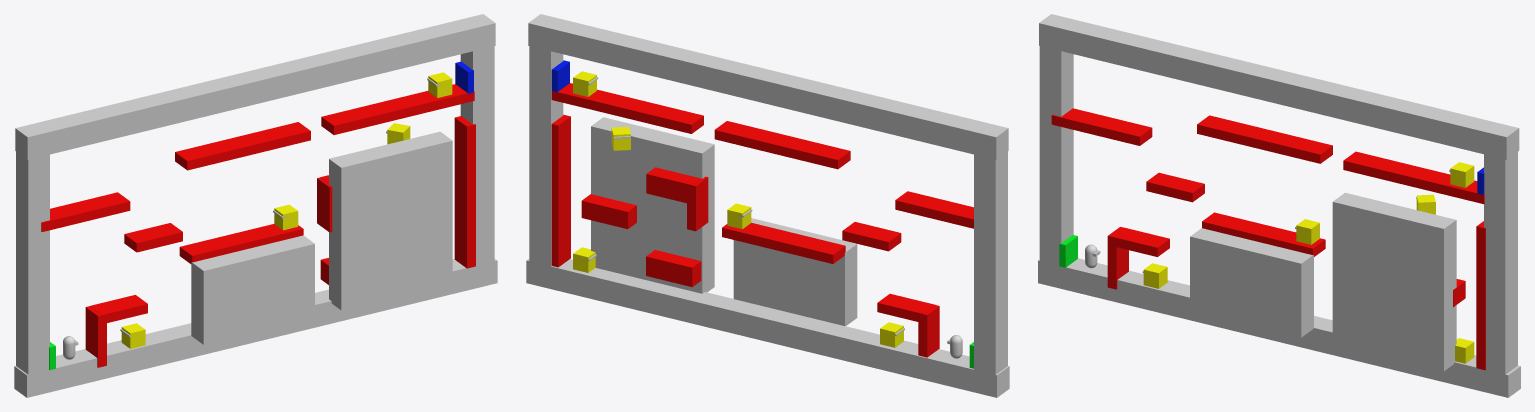
Rendered from Escena_2.fbx.
The picture shows the model from 3 angles, left to right: view 1: azimuth 30°, elevation 25°; view 2: azimuth 150°, elevation 25°; view 3: azimuth 330°, elevation 25°; orthographic projection.
Visible parts, largest first — view 1: Cube__1_, Cube__2_, Cube__5_, Cube_6, Cube__4_, Cube__3_, Inicio__6_, Inicio__4_, Inicio__9_, Inicio__11_, Inicio__13_, Inicio__12_ (+7 smaller); view 2: Cube__2_, Cube_6, Cube__1_, Cube__5_, Cube__4_, Cube__3_, Inicio__4_, Inicio__6_, Inicio__9_, Inicio__11_, Inicio__13_, Inicio__7_ (+12 smaller); view 3: Cube__1_, Cube__2_, Cube__5_, Cube_6, Cube__3_, Cube__4_, Inicio__9_, Inicio__4_, Inicio__11_, Inicio__13_, Inicio__6_, Inicio__12_ (+7 smaller).
Boxes of the visible parts, left/top/right/bottom form: Cube__1_: left=329, top=131, right=452, bottom=310; Cube__2_: left=15, top=14, right=495, bottom=159; Cube__5_: left=191, top=235, right=314, bottom=344; Cube_6: left=14, top=259, right=497, bottom=397; Cube__4_: left=16, top=150, right=49, bottom=375; Cube__3_: left=460, top=45, right=494, bottom=269; Inicio__6_: left=454, top=116, right=475, bottom=268; Inicio__4_: left=321, top=84, right=474, bottom=134; Inicio__9_: left=175, top=122, right=310, bottom=170; Inicio__11_: left=179, top=224, right=303, bottom=263; Inicio__13_: left=41, top=192, right=130, bottom=231; Inicio__12_: left=124, top=223, right=182, bottom=252; Cube__2_: left=528, top=14, right=1008, bottom=159; Cube_6: left=526, top=259, right=1009, bottom=397; Cube__1_: left=591, top=117, right=714, bottom=293; Cube__5_: left=733, top=218, right=857, bottom=326; Cube__4_: left=974, top=150, right=1007, bottom=374; Cube__3_: left=529, top=45, right=563, bottom=270; Inicio__4_: left=551, top=83, right=703, bottom=133; Inicio__6_: left=551, top=114, right=570, bottom=267; Inicio__9_: left=714, top=121, right=850, bottom=169; Inicio__11_: left=722, top=223, right=845, bottom=263; Inicio__13_: left=895, top=191, right=973, bottom=228; Inicio__7_: left=646, top=250, right=701, bottom=287; Cube__1_: left=1332, top=192, right=1456, bottom=371; Cube__2_: left=1039, top=14, right=1519, bottom=159; Cube__5_: left=1190, top=228, right=1313, bottom=337; Cube_6: left=1038, top=258, right=1520, bottom=397; Cube__3_: left=1484, top=152, right=1517, bottom=374; Cube__4_: left=1039, top=44, right=1073, bottom=270; Inicio__9_: left=1197, top=115, right=1332, bottom=163; Inicio__4_: left=1343, top=151, right=1484, bottom=204; Inicio__11_: left=1202, top=212, right=1325, bottom=256; Inicio__13_: left=1051, top=108, right=1152, bottom=145; Inicio__6_: left=1476, top=221, right=1485, bottom=370; Inicio__12_: left=1146, top=172, right=1204, bottom=202.
Bounding box in the file's own units: 2176 × 1151 × 218.
